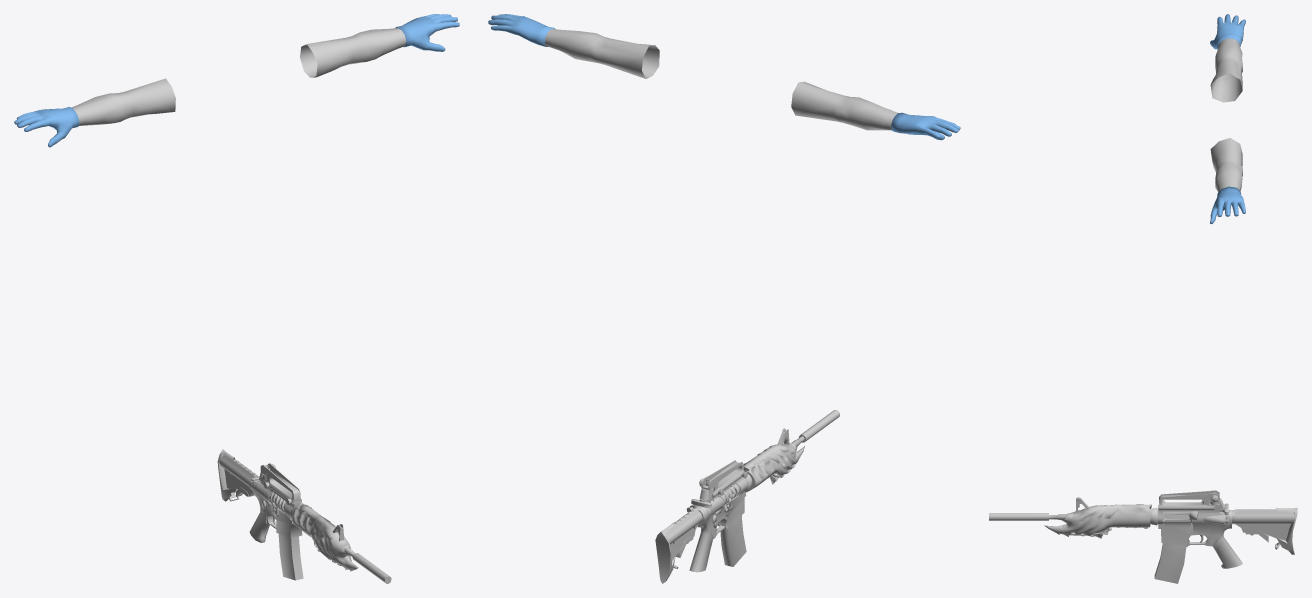
File: PV-M4A1_S_BornBeast_Classic.obj
3 views of the same model, side by side, from view 1: azimuth 30°, elevation 25°; view 2: azimuth 150°, elevation 25°; view 3: azimuth 270°, elevation 25° (orthographic). The views are drawn at different scales.
Visible parts, largest first — view 1: PV-M4A1_S_BornBeast_Classic_M4A1S_BornBeast, PV-M4A1_S_BornBeast_Classic_Fview-arm2, PV-M4A1_S_BornBeast_Classic_Fview-hand2, PV-M4A1_S_BornBeast_Classic_M4A1S_BornBeast01; view 2: PV-M4A1_S_BornBeast_Classic_M4A1S_BornBeast, PV-M4A1_S_BornBeast_Classic_Fview-arm2, PV-M4A1_S_BornBeast_Classic_Fview-hand2, PV-M4A1_S_BornBeast_Classic_M4A1S_BornBeast01; view 3: PV-M4A1_S_BornBeast_Classic_M4A1S_BornBeast, PV-M4A1_S_BornBeast_Classic_Fview-arm2, PV-M4A1_S_BornBeast_Classic_Fview-hand2, PV-M4A1_S_BornBeast_Classic_M4A1S_BornBeast01.
Part boxes in pixels (bbox=[...]): PV-M4A1_S_BornBeast_Classic_M4A1S_BornBeast: bbox=[217, 449, 391, 583]; PV-M4A1_S_BornBeast_Classic_Fview-arm2: bbox=[71, 28, 406, 125]; PV-M4A1_S_BornBeast_Classic_Fview-hand2: bbox=[14, 14, 459, 147]; PV-M4A1_S_BornBeast_Classic_M4A1S_BornBeast01: bbox=[278, 534, 303, 580]; PV-M4A1_S_BornBeast_Classic_M4A1S_BornBeast: bbox=[655, 410, 839, 583]; PV-M4A1_S_BornBeast_Classic_Fview-arm2: bbox=[545, 29, 897, 130]; PV-M4A1_S_BornBeast_Classic_Fview-hand2: bbox=[488, 14, 960, 140]; PV-M4A1_S_BornBeast_Classic_M4A1S_BornBeast01: bbox=[720, 516, 746, 566]; PV-M4A1_S_BornBeast_Classic_M4A1S_BornBeast: bbox=[989, 490, 1297, 568]; PV-M4A1_S_BornBeast_Classic_Fview-arm2: bbox=[1210, 38, 1242, 192]; PV-M4A1_S_BornBeast_Classic_Fview-hand2: bbox=[1210, 14, 1245, 223]; PV-M4A1_S_BornBeast_Classic_M4A1S_BornBeast01: bbox=[1154, 543, 1186, 583].
Bounding box in the file's own units: 4.15 × 4.5 × 2.7.
